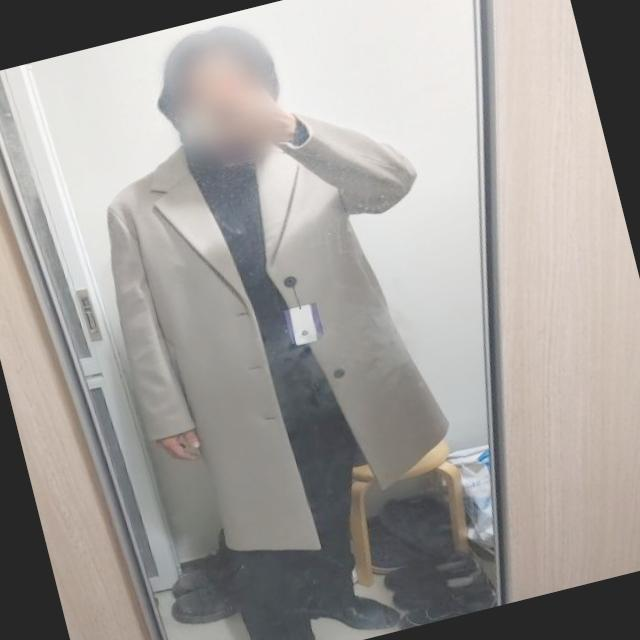coat: (71, 85, 502, 582)
slacks: (170, 291, 392, 640)
